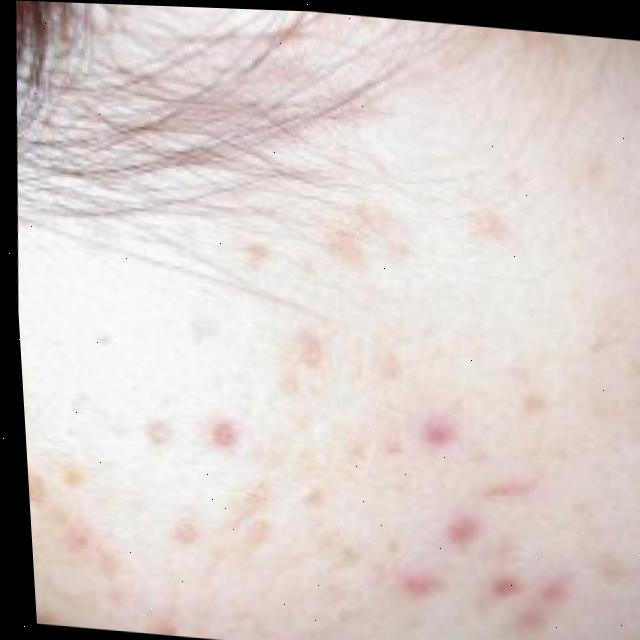Acne: (38, 140, 640, 640)
